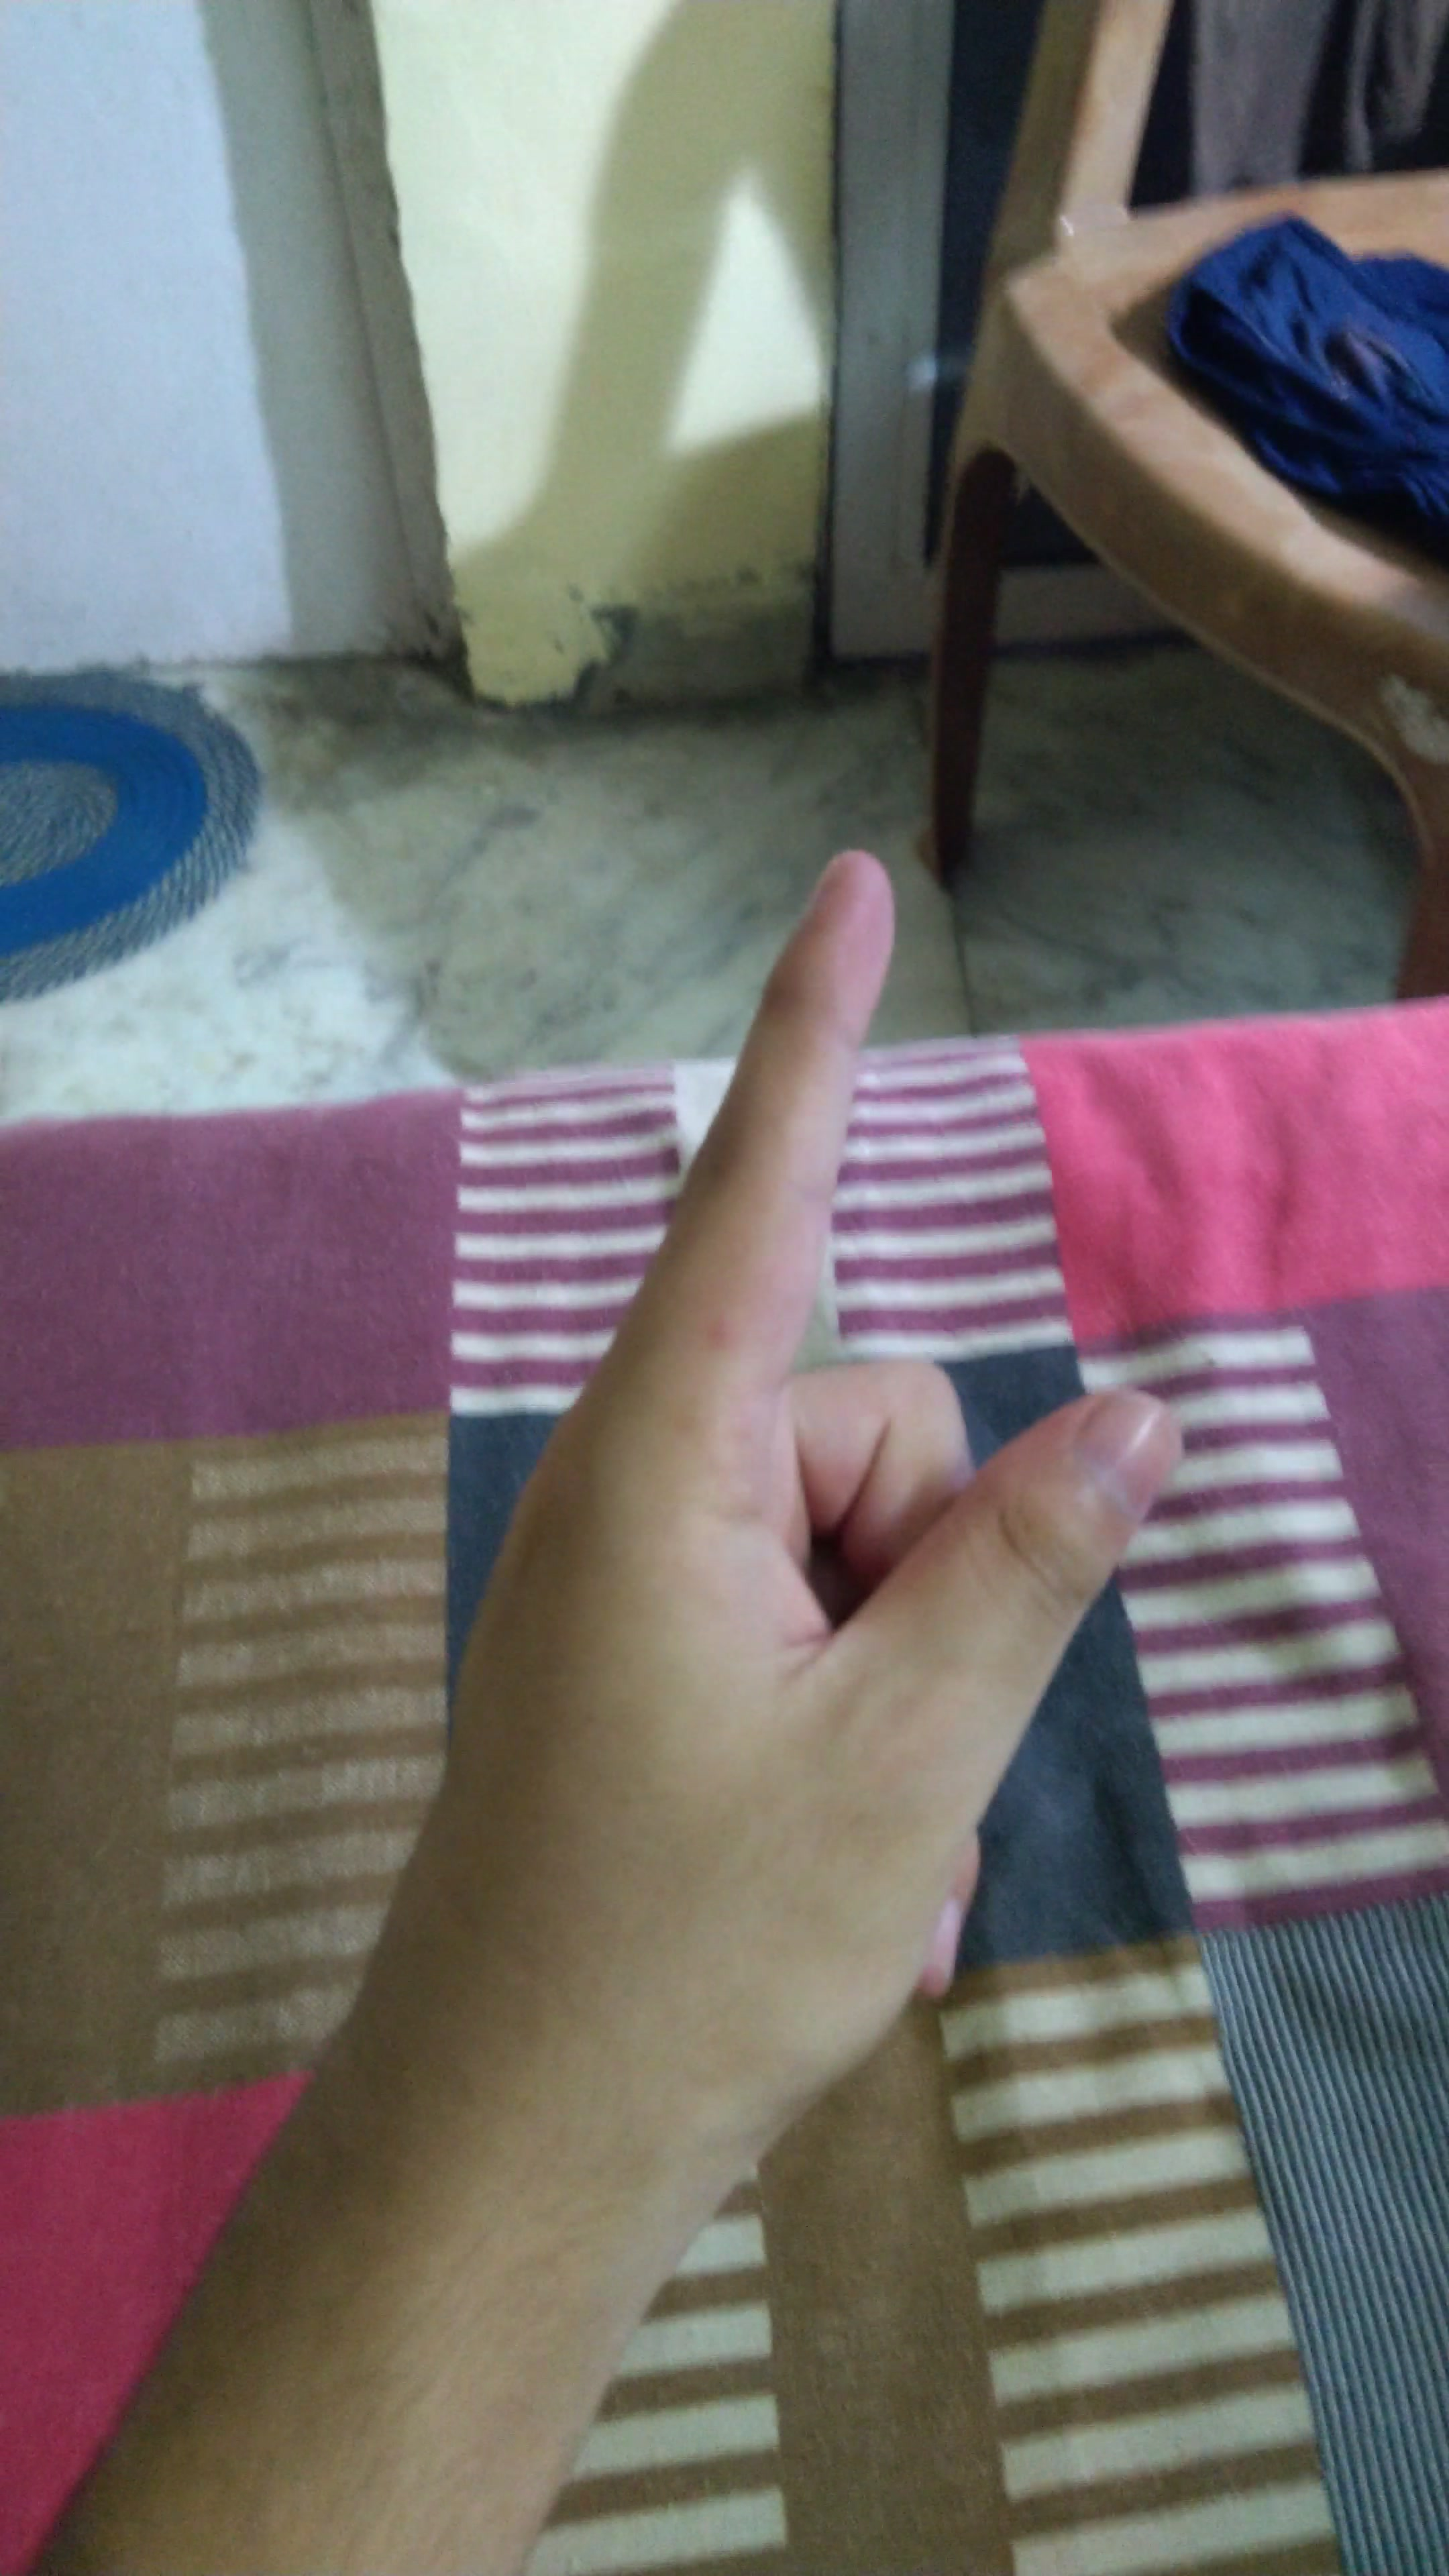hand: (363, 817, 1207, 2169)
